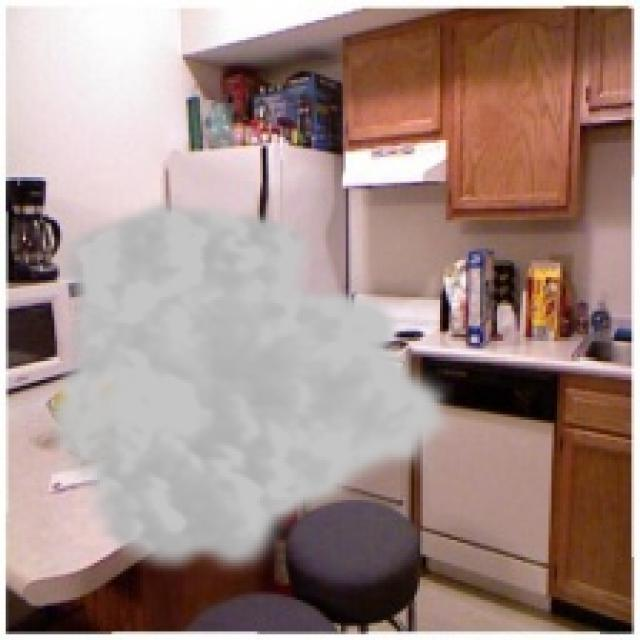smoke: (43, 194, 460, 583)
